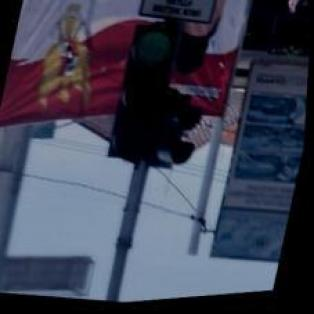Semaforo Verde: (108, 22, 180, 166)
